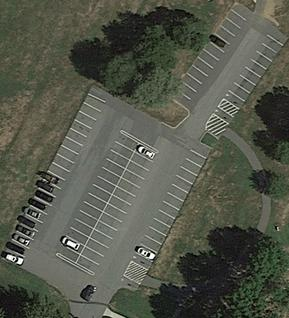parkingspot: (0, 84, 114, 269), (75, 142, 160, 275), (56, 130, 140, 264), (130, 139, 213, 271), (172, 1, 255, 109), (222, 24, 289, 110), (212, 105, 235, 125)
